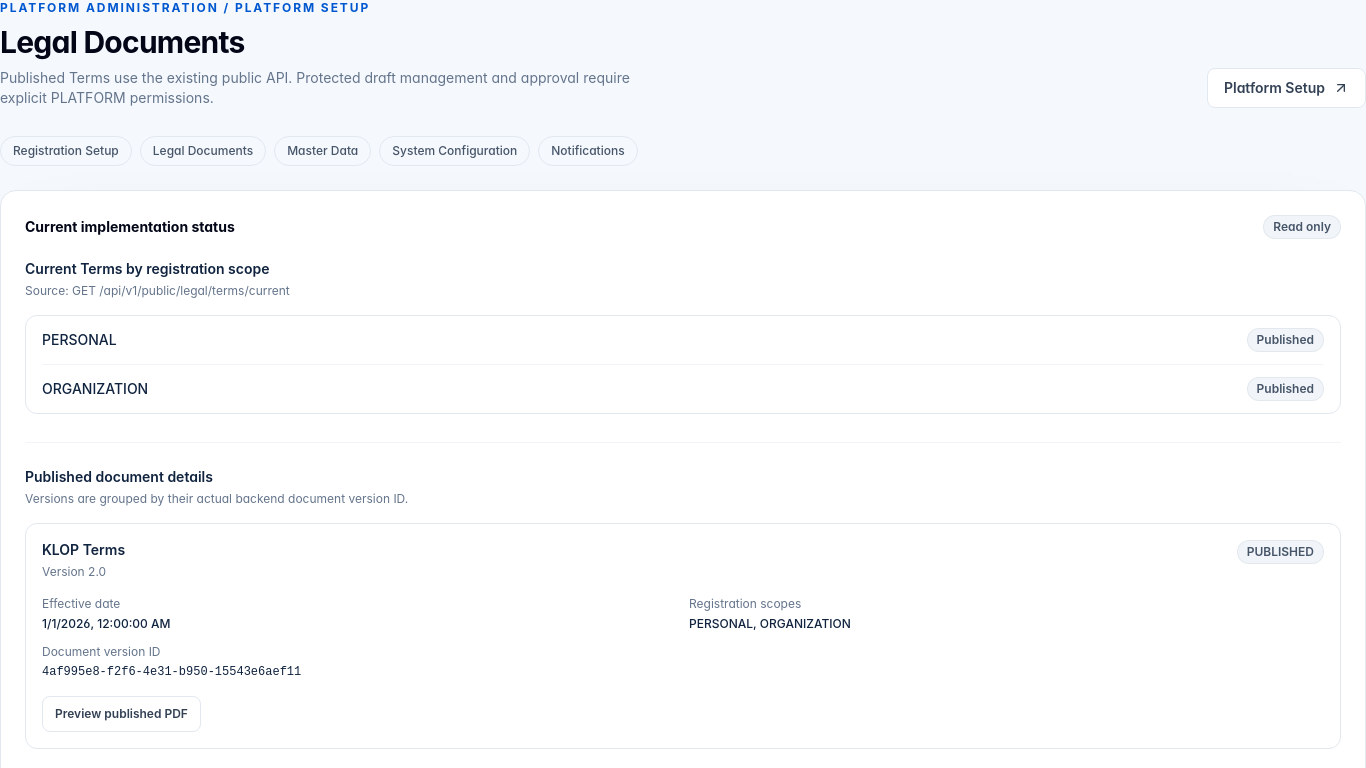
LegalDocumentsPage › groups the same published backend version across both registration scopes
This screenshot has width=1366, height=768.
Expected: the text "PERSONAL, ORGANIZATION" is shown, [689, 616, 851, 631]
Expected: the text "Version 2.0" is shown, [42, 564, 106, 579]
Click the button "Preview published PDF".
click(121, 714)  # box [42, 696, 201, 732]
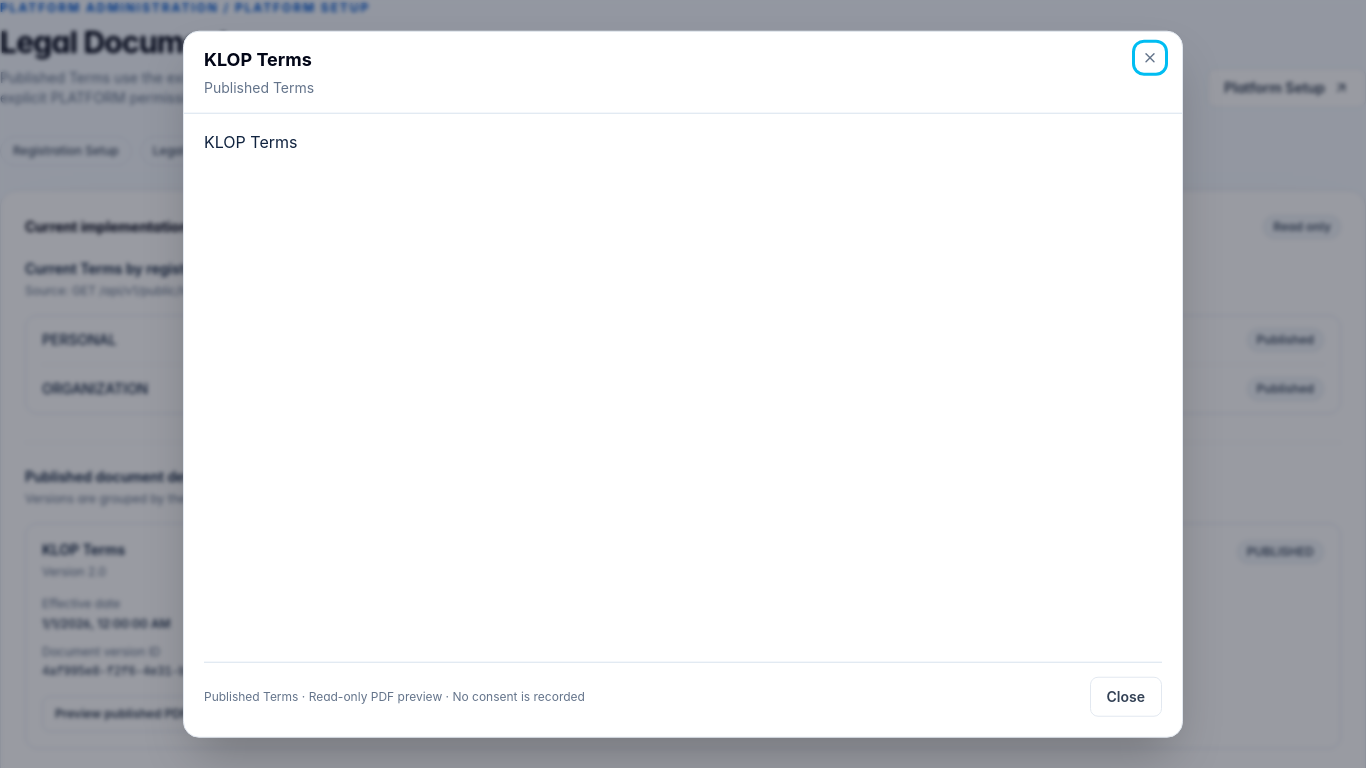
Expected: the text with test id "pdf-preview" reads "KLOP Terms", [204, 132, 297, 152]
